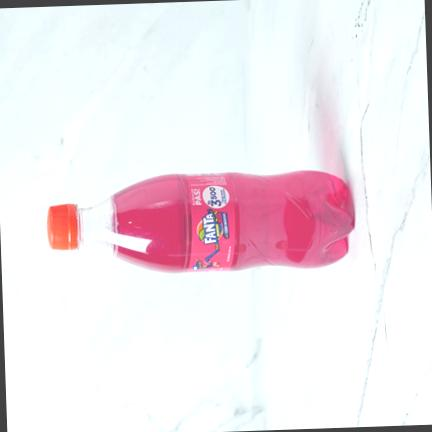container: (69, 170, 354, 272)
fluid: (115, 170, 353, 271)
fluid-surface: (111, 196, 118, 257)
